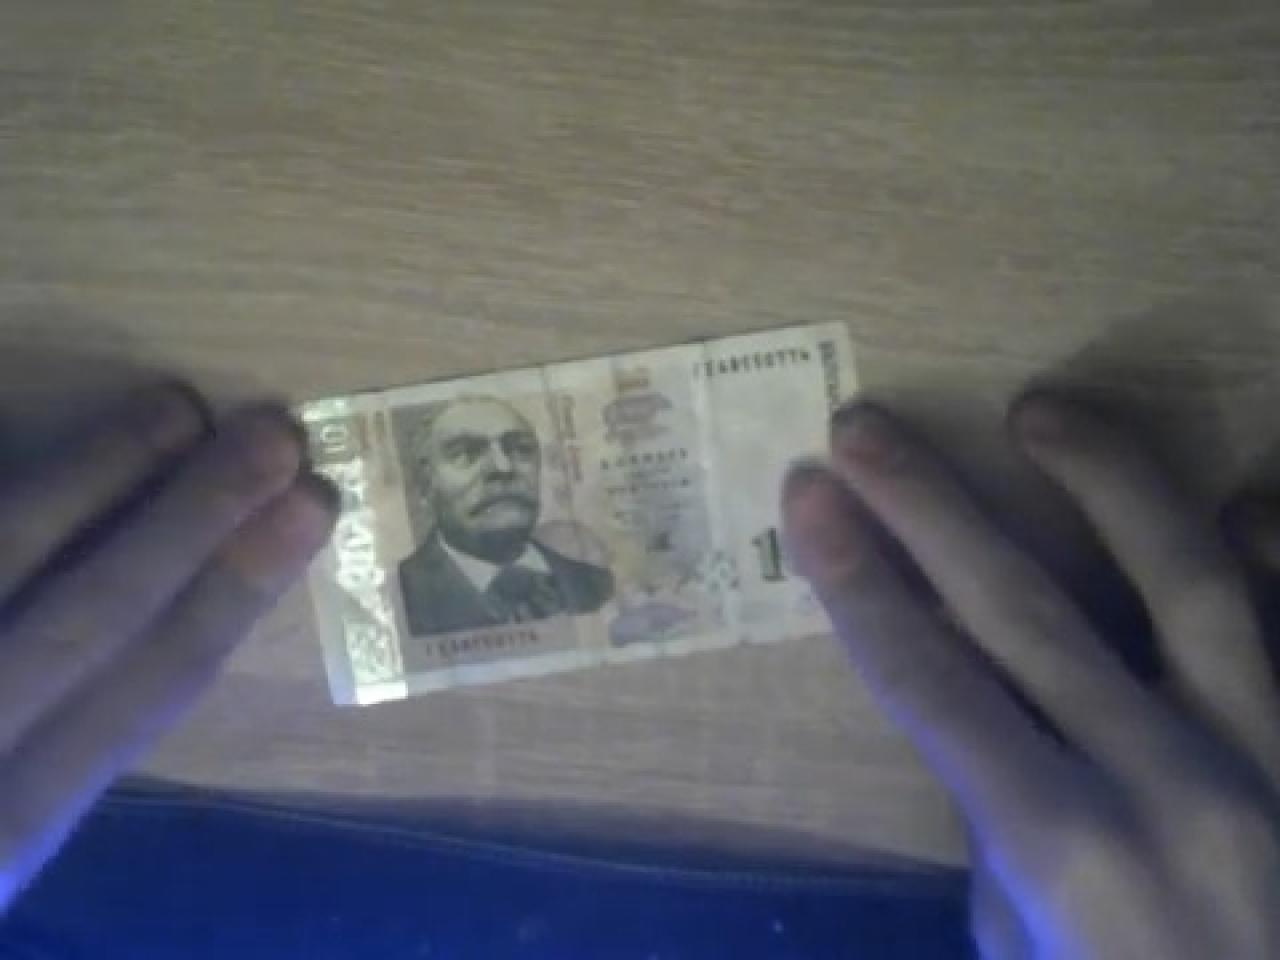10leva: (301, 326, 856, 704), (432, 397, 546, 566)
